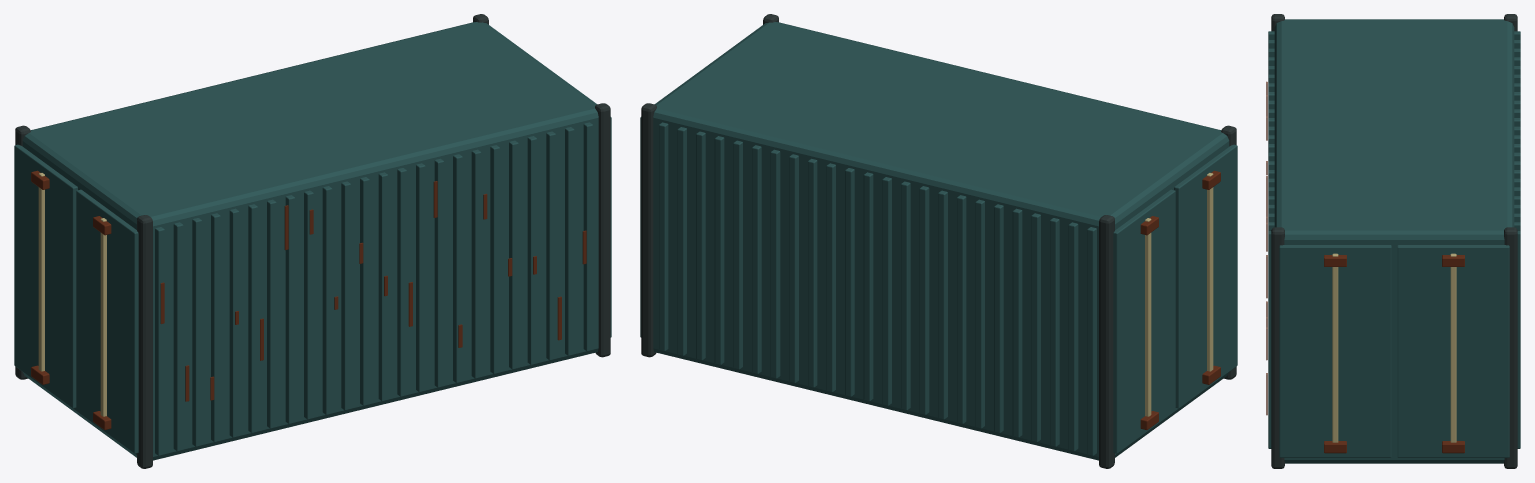
File: container.glb
The picture shows the model from 3 angles, left to right: view 1: azimuth 30°, elevation 25°; view 2: azimuth 150°, elevation 25°; view 3: azimuth 270°, elevation 25°; orthographic projection. The views are drawn at different scales.
Visible parts, largest first — view 1: container; view 2: container; view 3: container.
Part boxes in pixels (box(x1,y1,x2,y2)): container: box(14, 14, 611, 468); container: box(640, 14, 1237, 468); container: box(1266, 14, 1520, 468).
Size of the model in its own units: 6.32 by 3.08 by 2.97.
